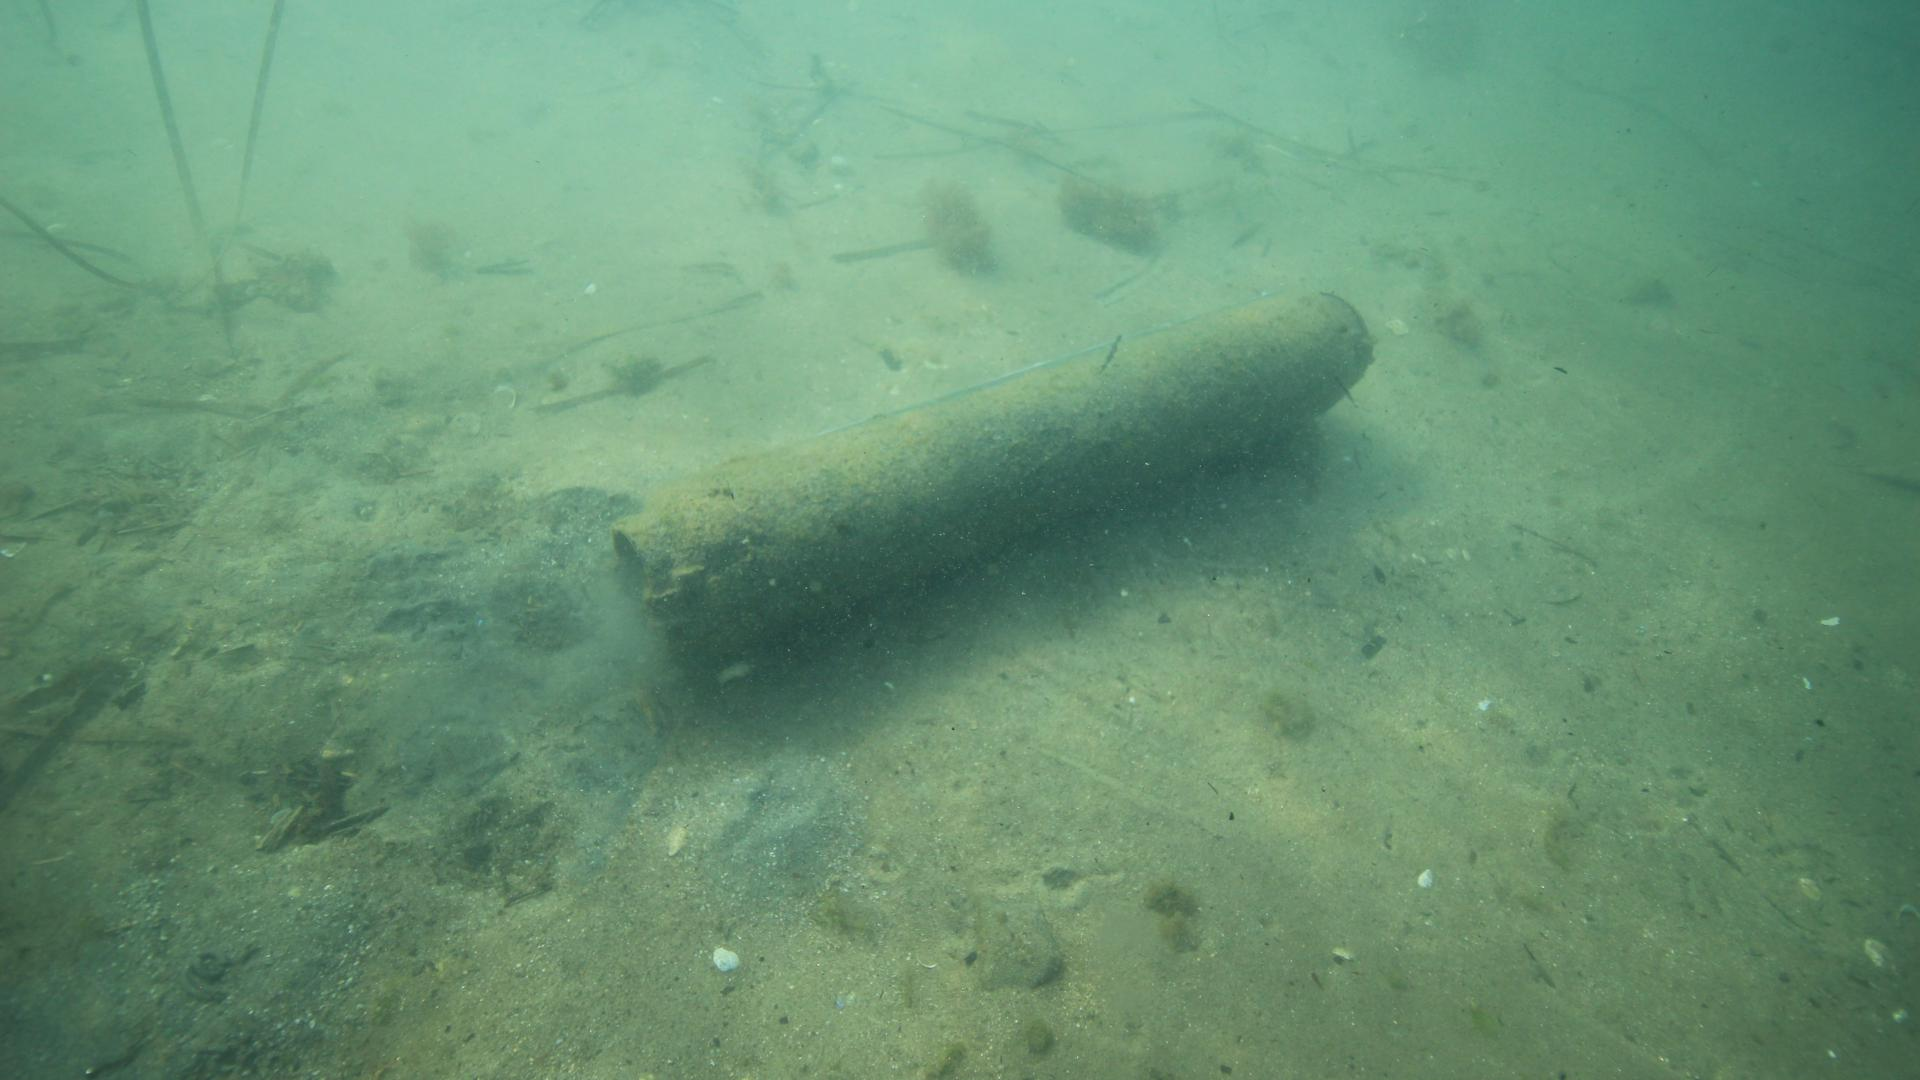eel fish trap: (608, 289, 1375, 655)
